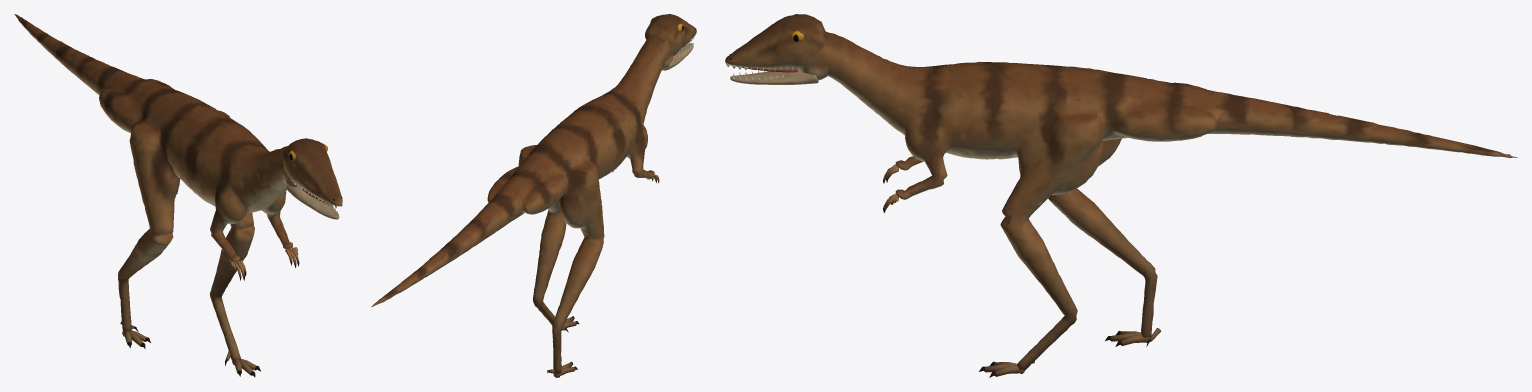
The model's file is Eoraptor.fbx.
The picture shows the model from 3 angles, left to right: view 1: azimuth 30°, elevation 25°; view 2: azimuth 150°, elevation 25°; view 3: azimuth 270°, elevation 25°; orthographic projection. The views are drawn at different scales.
Visible parts, largest first — view 1: Eoraptor; view 2: Eoraptor; view 3: Eoraptor.
Part boxes in pixels (x1,y1,x2,y2): Eoraptor: (14,14,342,377); Eoraptor: (371,14,696,377); Eoraptor: (725,14,1517,377).
Bounding box in the file's own units: 0.2148 × 0.6723 × 1.42.
